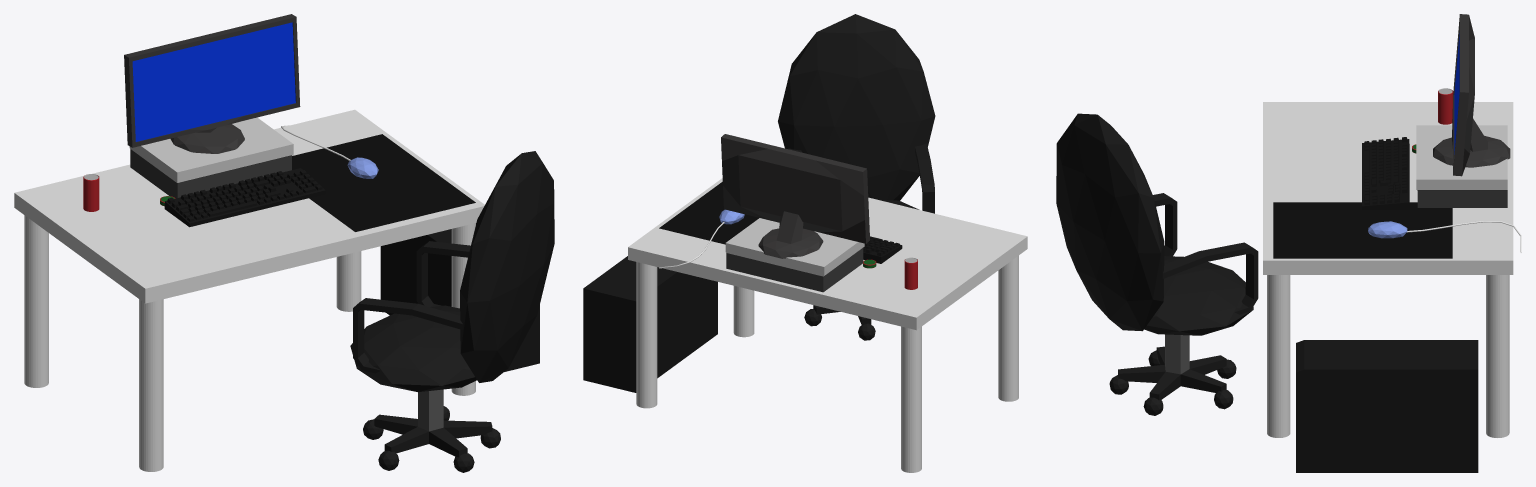
File: myRoom.glb
3 views of the same model, side by side, from view 1: azimuth 30°, elevation 25°; view 2: azimuth 150°, elevation 25°; view 3: azimuth 270°, elevation 25° (orthographic). The views are drawn at different scales.
Parts seen in each view (by area): view 1: Cube, Screen, Icosphere.003, Icosphere, Mousemat, Shoebox, PC, Cylinder, Cylinder.003, Cube.002, Keyboard, Cylinder.002 (+4 smaller); view 2: Icosphere.003, Cube, Screen, PC, Shoebox, Cylinder.002, Cylinder.003, Cylinder, Mousemat, Cylinder.001, Cube.002, Icosphere.002; view 3: PC, Cube, Icosphere.003, Mousemat, Icosphere, Shoebox, Screen, Cylinder.002, Cylinder.001, Cube.003, Keyboard, Icosphere.002 (+3 smaller).
Part boxes in pixels (box(x1,y1,x2,y2)): Cube: box(14, 109, 484, 303); Screen: box(124, 14, 300, 153); Icosphere.003: box(460, 151, 554, 382); Icosphere: box(350, 305, 492, 457); Mousemat: box(292, 134, 475, 231); Shoebox: box(129, 117, 293, 198); PC: box(380, 223, 539, 371); Cylinder: box(139, 299, 163, 471); Cylinder.003: box(24, 215, 48, 387); Cube.002: box(353, 298, 462, 373); Keyboard: box(164, 168, 325, 227); Cylinder.002: box(336, 251, 361, 311); Icosphere.003: box(778, 14, 935, 200); Cube: box(628, 178, 1027, 330); Screen: box(721, 134, 869, 258); PC: box(583, 256, 717, 392); Shoebox: box(725, 218, 864, 292); Cylinder.002: box(636, 262, 657, 408); Cylinder.003: box(901, 326, 921, 472); Cylinder: box(998, 255, 1018, 401); Mousemat: box(659, 182, 758, 244); Cylinder.001: box(733, 286, 754, 337); Cube.002: box(915, 143, 934, 213); Icosphere.002: box(804, 309, 875, 340); PC: box(1296, 340, 1478, 472); Cube: box(1263, 102, 1513, 274); Icosphere.003: box(1056, 113, 1164, 331); Mousemat: box(1273, 202, 1452, 258); Icosphere: box(1118, 256, 1253, 399); Shoebox: box(1416, 125, 1507, 207); Screen: box(1433, 14, 1510, 176); Cylinder.002: box(1486, 275, 1509, 437); Cylinder.001: box(1267, 275, 1290, 437); Cube.003: box(1163, 242, 1258, 314); Keyboard: box(1362, 139, 1409, 209); Icosphere.002: box(1109, 350, 1236, 415).
Size of the model in its own units: 2.9 by 2.17 by 2.97.
